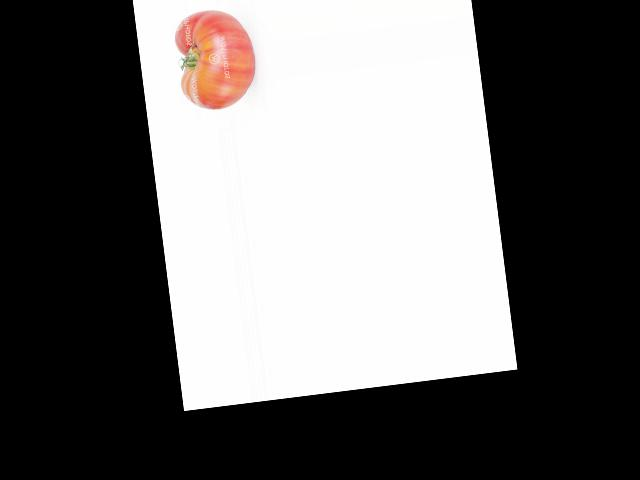tomato: (171, 6, 260, 114)
